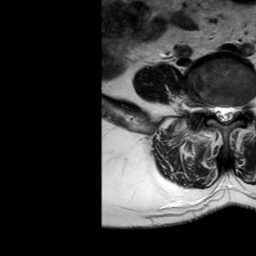CCS_normal: (221, 96, 228, 131)
LFS_normal: (237, 96, 247, 120)
LLS_normal: (228, 97, 237, 126)
RFS_normal: (204, 93, 212, 122)
RLS_normal: (212, 95, 221, 126)
